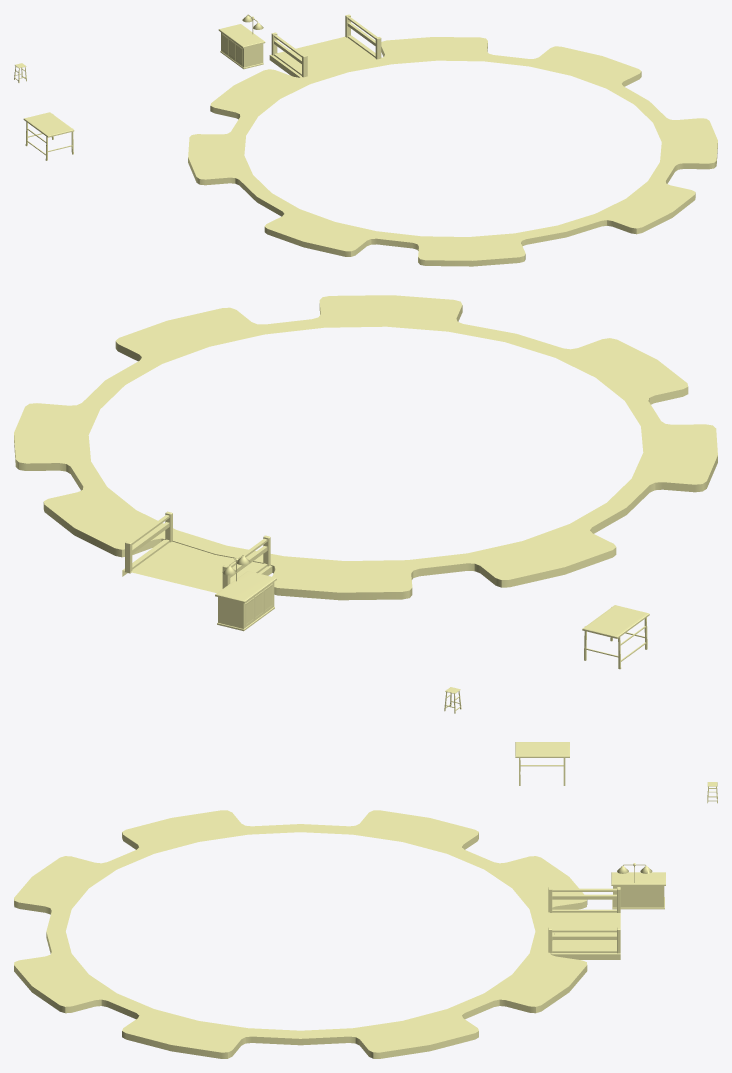
Rendered from floor1.obj.
3 renders of one model, top to bottom at view 1: azimuth 30°, elevation 25°; view 2: azimuth 150°, elevation 25°; view 3: azimuth 270°, elevation 25°, orthographic. The views are drawn at different scales.
Visible parts, largest first — view 1: floor1:outer_ring, floor1:c0camino, floor1:e0escritorio, floor1:m1mesas; view 2: floor1:outer_ring, floor1:c0camino, floor1:e0escritorio, floor1:m1mesas; view 3: floor1:outer_ring, floor1:c0camino, floor1:e0escritorio, floor1:m1mesas.
Boxes of the visible parts, x1,y1,x2,y2 form: floor1:outer_ring: (188, 37, 717, 266); floor1:c0camino: (269, 14, 381, 77); floor1:e0escritorio: (218, 24, 265, 69); floor1:m1mesas: (23, 112, 74, 160); floor1:outer_ring: (14, 295, 717, 600); floor1:c0camino: (122, 511, 272, 593); floor1:e0escritorio: (215, 571, 276, 631); floor1:m1mesas: (582, 605, 649, 669); floor1:outer_ring: (14, 810, 587, 1058); floor1:c0camino: (548, 887, 620, 959); floor1:e0escritorio: (611, 872, 665, 909); floor1:m1mesas: (515, 742, 569, 785).
Size of the model in its own units: 9428 by 742 by 9655.
